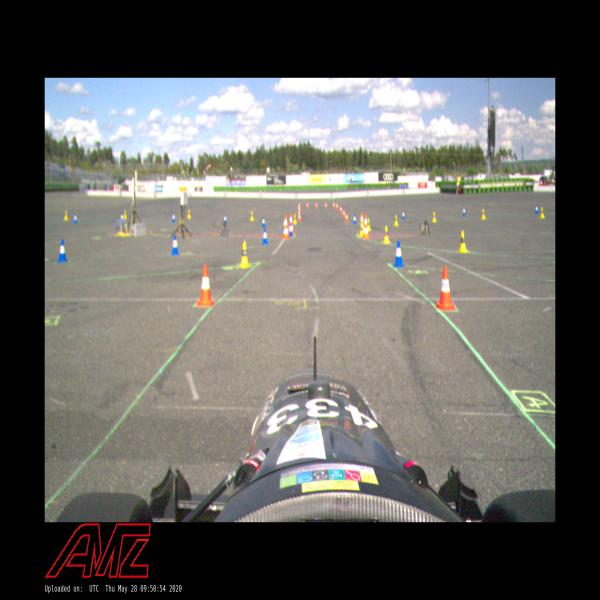blue_cone: (392, 240, 404, 268), (57, 239, 67, 262), (170, 234, 179, 255), (261, 228, 269, 245), (72, 213, 78, 224), (289, 223, 293, 237), (120, 212, 125, 222), (462, 206, 467, 216), (224, 214, 228, 224), (262, 217, 266, 227), (353, 214, 357, 224), (534, 204, 538, 214), (402, 210, 406, 219), (172, 213, 175, 223)
large_orange_cone: (282, 215, 290, 239), (363, 214, 369, 239), (289, 214, 294, 235), (360, 213, 364, 235)
orange_cone: (435, 266, 457, 311), (196, 264, 215, 307), (315, 202, 318, 209), (336, 203, 339, 210), (346, 212, 348, 222), (343, 209, 345, 218), (340, 205, 342, 213), (325, 202, 327, 209), (333, 201, 335, 208), (306, 202, 308, 208)
yellow_cone: (238, 241, 250, 269), (458, 230, 468, 253), (383, 225, 390, 244), (393, 214, 399, 227), (359, 222, 364, 237), (481, 208, 487, 220), (432, 210, 437, 222), (540, 206, 545, 218), (63, 210, 68, 221), (250, 211, 254, 222), (293, 214, 297, 225), (187, 209, 191, 219), (124, 209, 127, 219), (368, 218, 370, 231)
